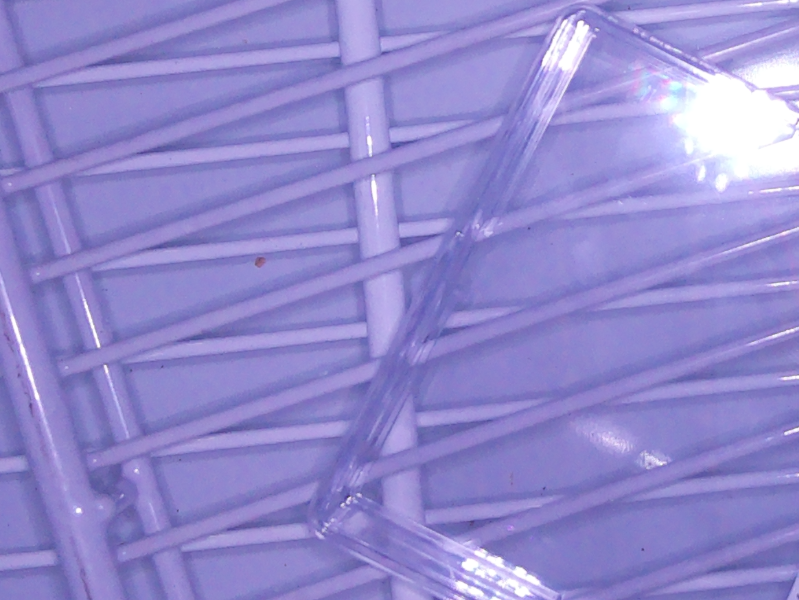plate: (306, 6, 799, 600)
